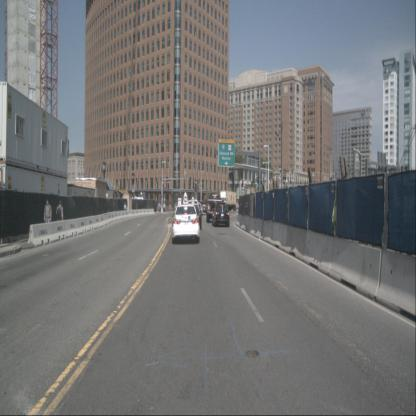human-pedestrian-adult: (56, 200, 64, 233), (44, 200, 51, 236), (123, 202, 127, 215), (163, 201, 166, 214), (135, 202, 138, 212), (158, 202, 160, 214)
movable_object-barrier: (328, 238, 382, 300), (376, 250, 416, 318), (302, 230, 334, 275), (285, 226, 307, 260), (27, 223, 54, 247), (271, 222, 288, 251), (52, 220, 69, 242), (261, 221, 274, 244), (66, 219, 81, 238), (86, 214, 101, 231), (252, 219, 263, 240), (77, 217, 88, 234), (242, 216, 250, 232), (248, 217, 255, 235), (100, 213, 108, 227), (108, 212, 118, 223), (236, 214, 242, 230), (118, 211, 126, 220), (139, 209, 147, 217), (132, 209, 140, 217), (146, 208, 154, 215), (125, 210, 132, 218)
vehicle-car: (172, 193, 200, 244), (187, 198, 202, 228), (212, 204, 230, 226), (188, 196, 202, 212), (200, 201, 207, 215)
vehicle-truck: (206, 194, 222, 224), (220, 190, 236, 212)
